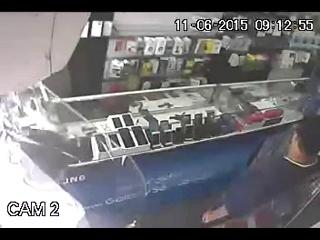Normal: (206, 112, 320, 227)
